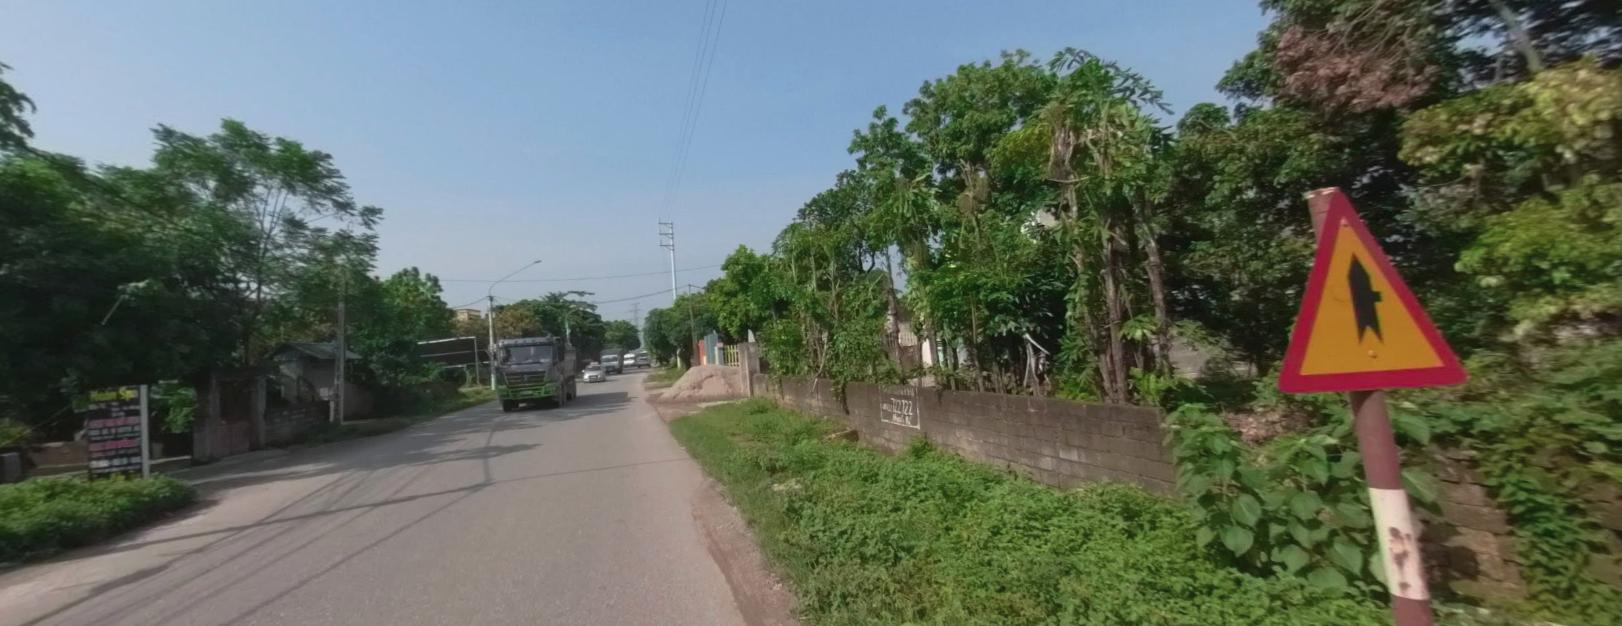Nguy hiem: (1271, 169, 1475, 403), (1273, 189, 1471, 393)
